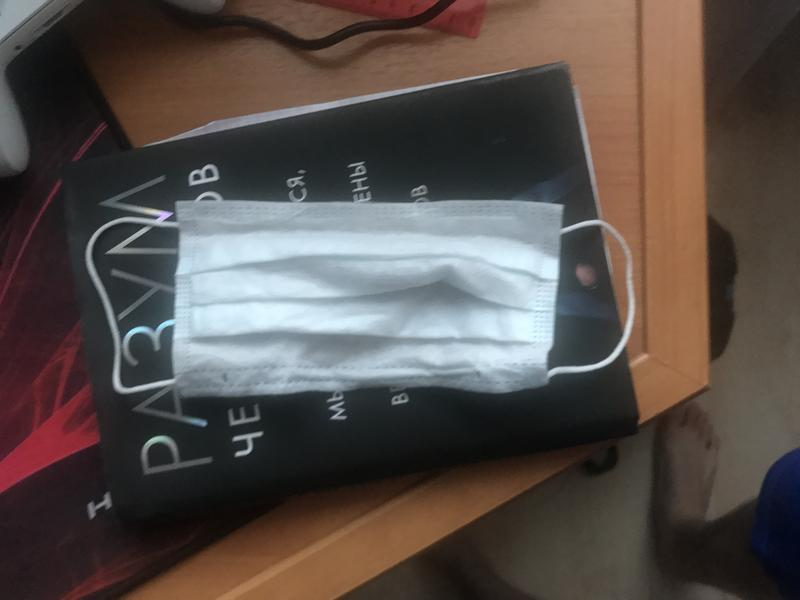medical_mask: (83, 200, 632, 395)
